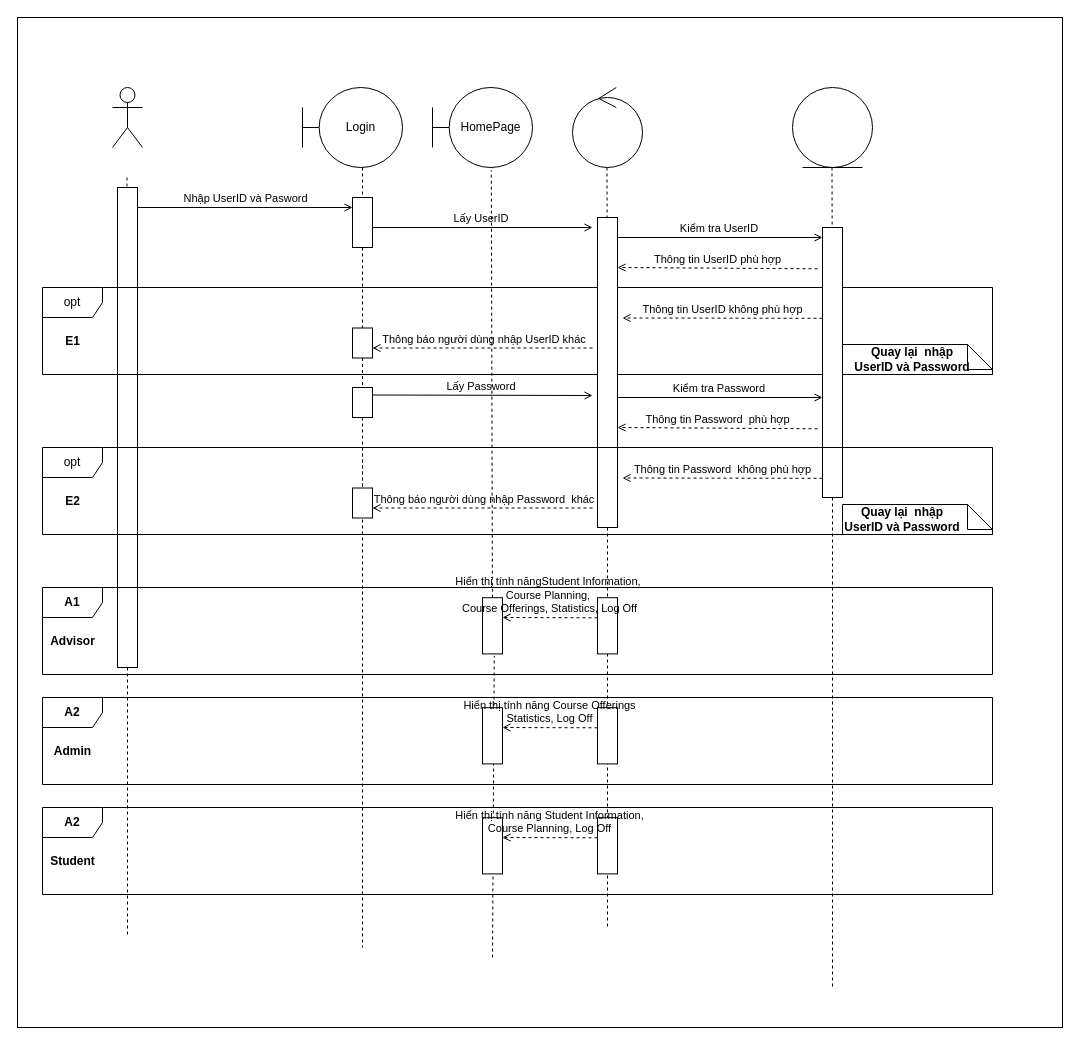
Some shapes in this 1080 by 1045 pixel diagram are drawn without their labels. The shapes that lost their labels are listed below. From the top down, each one's centre as x and y in pixels, then its label:
At (127,117): "Actor".
At (607,127): "Xử lý".
At (832,127): "Database".
